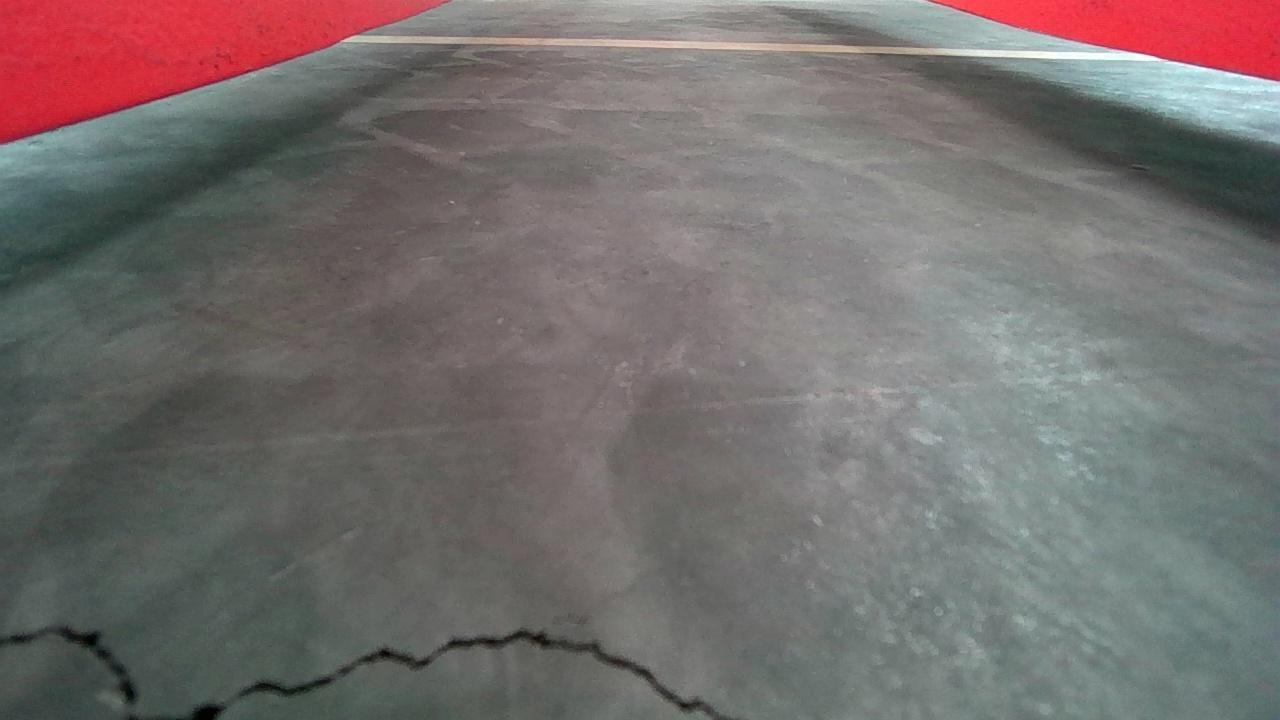yellow_line: (340, 31, 1164, 60)
